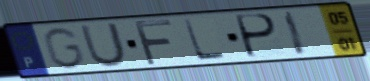F: (131, 18, 176, 68)
G: (41, 26, 88, 71)
I: (281, 9, 310, 57)
L: (180, 18, 229, 62)
P: (235, 12, 280, 60)
U: (78, 21, 129, 69)
